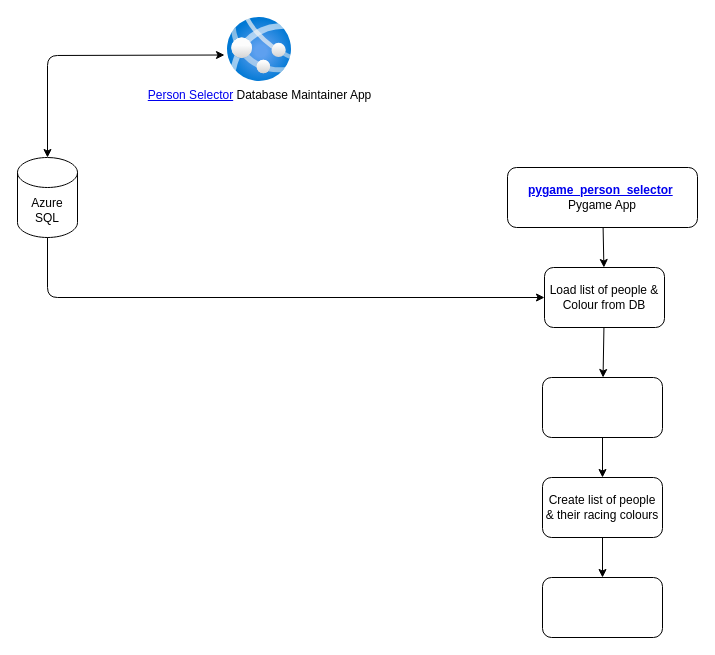
Some shapes in this 715 by 655 pixel diagram are drawn without their labels. The shapes that lost their labels are listed below. From the top down, each one's centre as x and y in pixels, then its label:
(602,407): Exclude already selected & inactive
(602,607): Run the game
